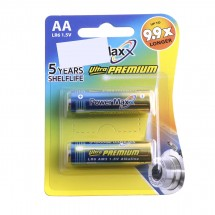Battery: (62, 88, 155, 118), (65, 140, 154, 166)
